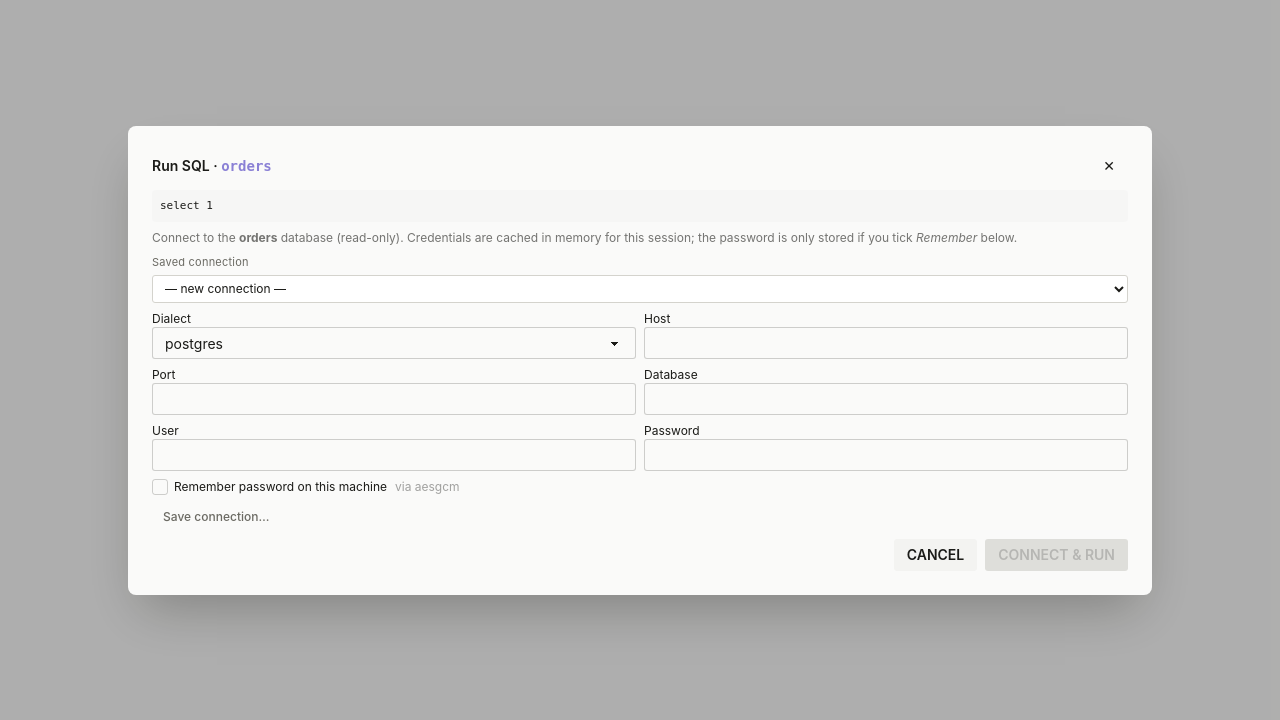
Test: SqlRunModal — saved connection picker › renders the saved connections and selecting one fills the form fields
Select "Staging PG" in the dropdown with test id "sql-saved-select" at (640, 288), box [152, 274, 1128, 302]
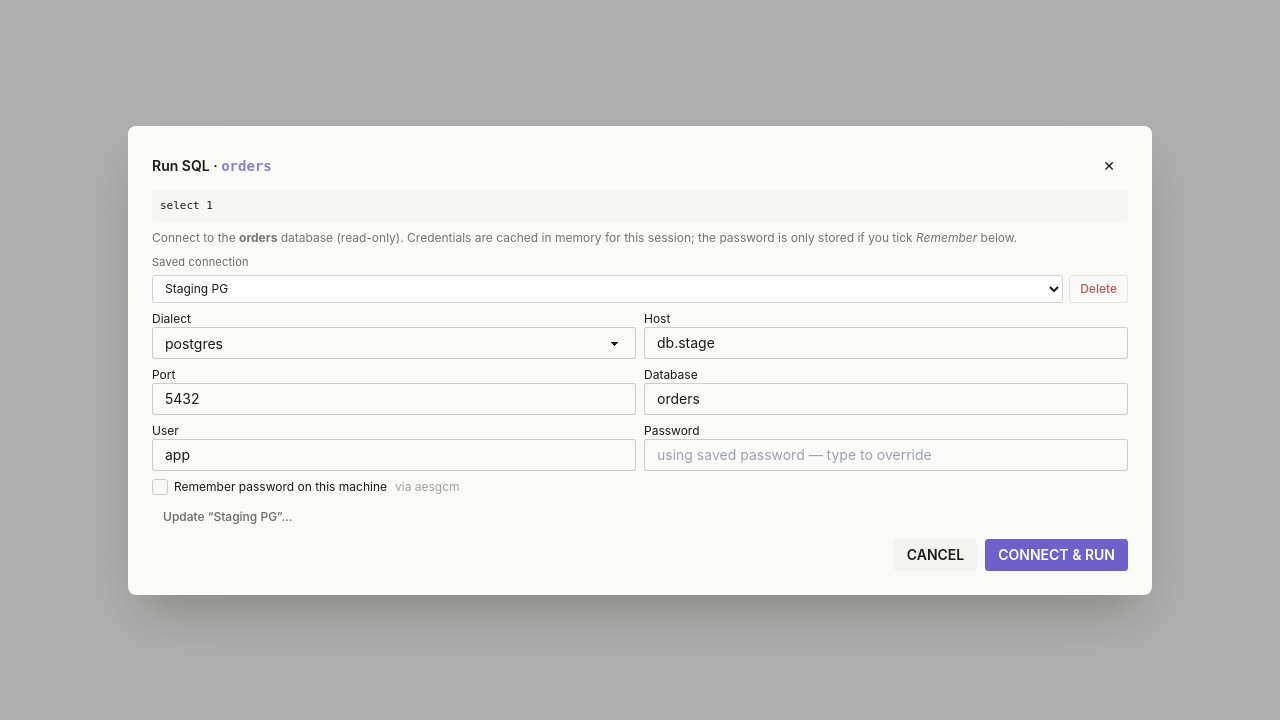
Check: the field labelled "Host" holds "db.stage", box [644, 326, 1128, 358]
Check: the field labelled "Port" holds "5432", box [152, 382, 636, 414]
Check: the field labelled "Database" holds "orders", box [644, 382, 1128, 414]
